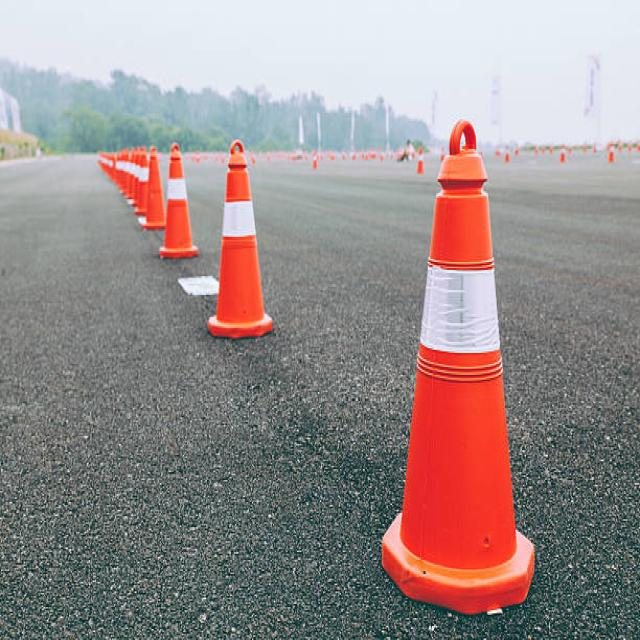Traffic Cone: (359, 82, 554, 631), (200, 124, 287, 362), (156, 136, 201, 267)
